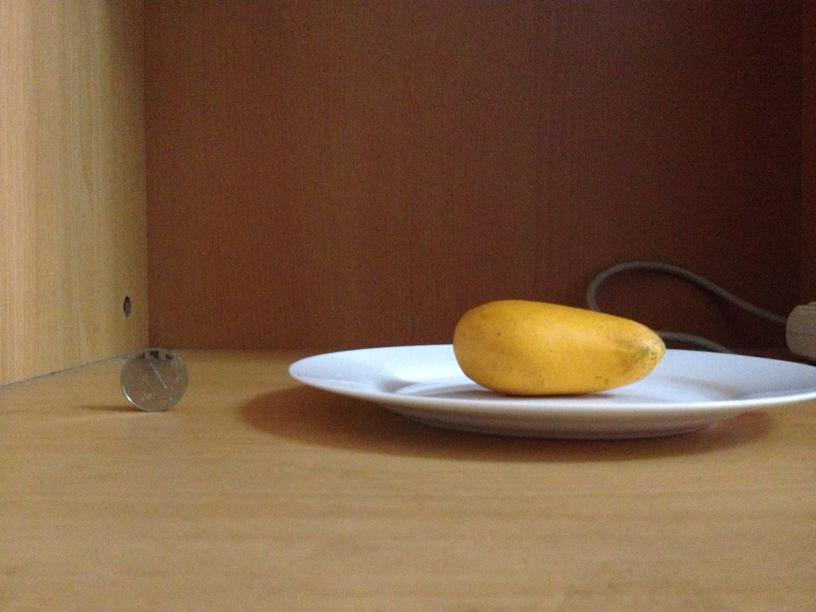coin: (117, 345, 190, 411)
mango: (450, 298, 666, 396)
